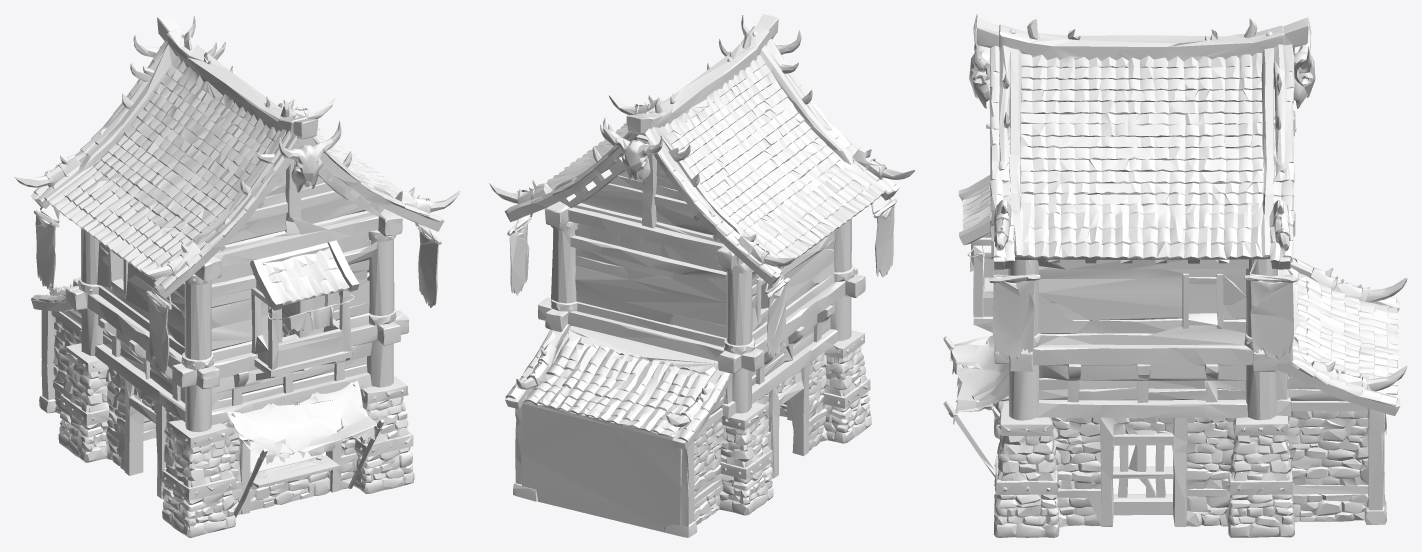
Rendered from house_bal_c.glb.
The picture shows the model from 3 angles, left to right: view 1: azimuth 30°, elevation 25°; view 2: azimuth 150°, elevation 25°; view 3: azimuth 270°, elevation 25°; orthographic projection. The views are drawn at different scales.
Visible parts, largest first — view 1: house_bal_c; view 2: house_bal_c; view 3: house_bal_c.
Boxes of the visible parts, x1,y1,x2,y2 form: house_bal_c: (14,14,460,537); house_bal_c: (489,14,914,537); house_bal_c: (943,14,1407,537).
Size of the model in its own units: 8.44 by 10 by 9.22.
Materials: 1 (1 with a texture image).
